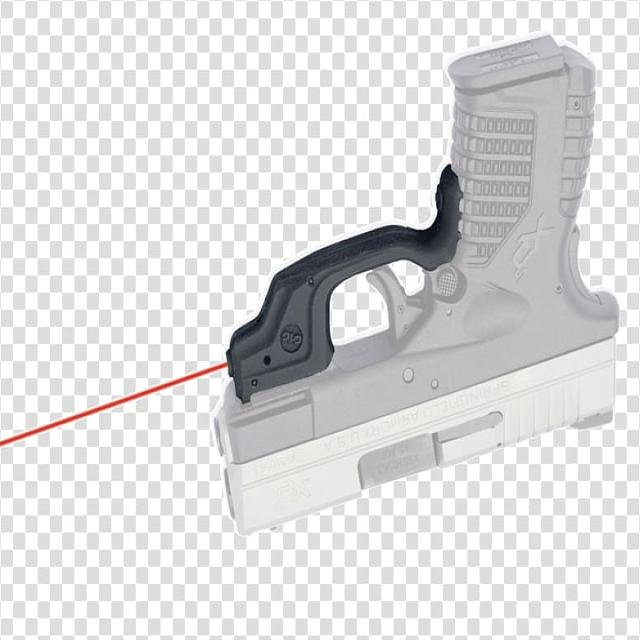Gun: (167, 31, 640, 546)
